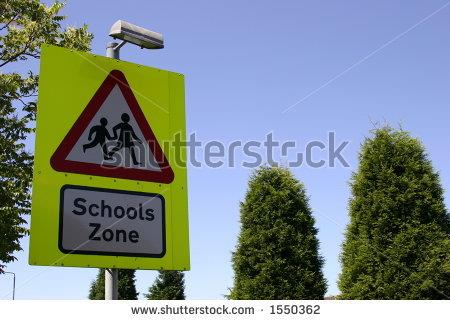road_sign_school: (44, 63, 176, 258)
